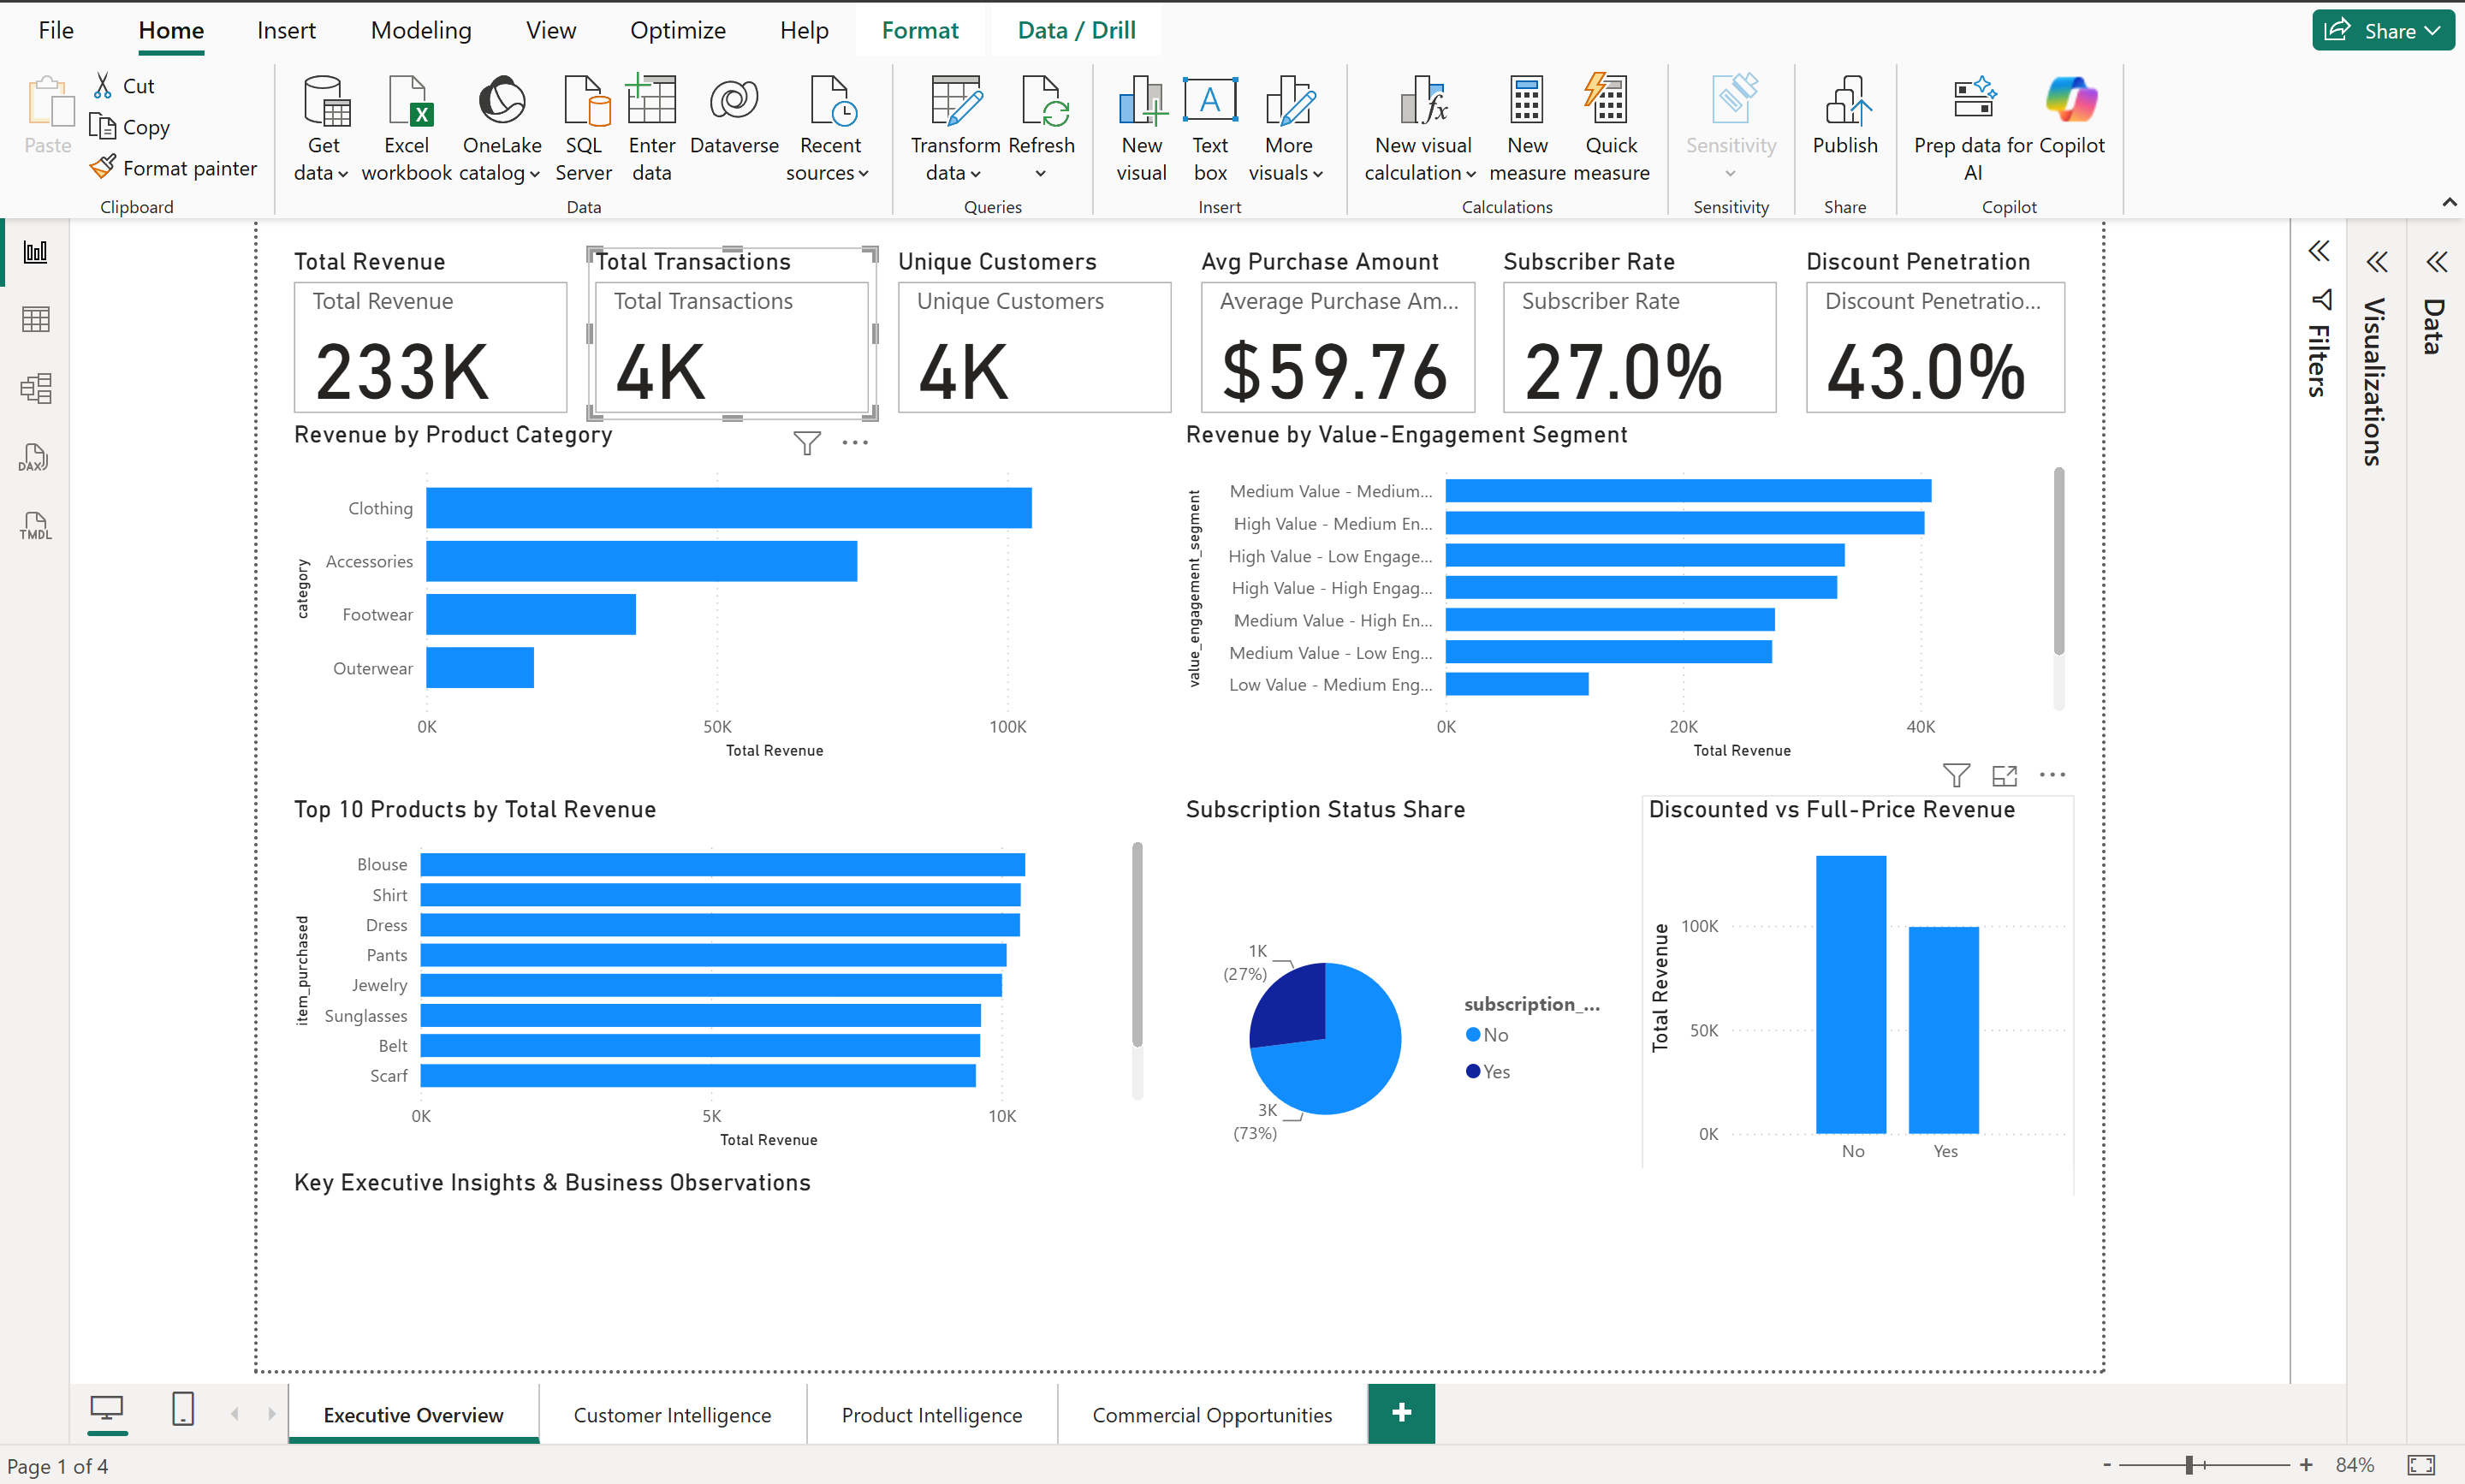

This screenshot's page, from the dashboard's own definition file:
{"tool":"powerbi","page":{"name":"Executive Overview","canvas":[1280,800],"ordinal":0},"visuals":[{"type":"cardVisual","title":"Total Revenue ($233,081)","box":[20,20,200,100],"z":1000},{"type":"cardVisual","title":"Total Transactions (3,900)","box":[230,20,200,100],"z":1000},{"type":"cardVisual","title":"Unique Customers (3,900)","box":[440,20,200,100],"z":1000},{"type":"cardVisual","title":"Avg Purchase Amount ($59.76)","box":[650,20,200,100],"z":1000},{"type":"cardVisual","title":"Subscriber Rate (27.0%)","box":[860,20,200,100],"z":1000},{"type":"cardVisual","title":"Discount Penetration (43.0%)","box":[1070,20,190,100],"z":1000},{"type":"barChart","title":"Revenue by Product Category","box":[20,140,600,240],"z":1000},{"type":"barChart","title":"Revenue by Value-Engagement Segment","box":[640,140,620,240],"z":1000},{"type":"barChart","title":"Top 10 Products by Total Revenue","box":[20,400,600,250],"z":1000},{"type":"pieChart","title":"Subscription Status Share","box":[640,400,300,250],"z":1000},{"type":"barChart","title":"Discounted vs Full-Price Revenue","box":[960,400,300,250],"z":1000},{"type":"textbox","title":"Key Executive Insights & Business Observations","box":[20,660,1240,120],"z":1000}]}

Visuals, with their boxes on the page's 1280x800 design canvas (x1, y1, x2, y2). These are canvas units, not pixel positions in the 2465x1484 screenshot, which may show the page scaled, cropped or inside an application window:
"Total Revenue ($233,081)" cardVisual: [left=20, top=20, right=220, bottom=120]
"Total Transactions (3,900)" cardVisual: [left=230, top=20, right=430, bottom=120]
"Unique Customers (3,900)" cardVisual: [left=440, top=20, right=640, bottom=120]
"Avg Purchase Amount ($59.76)" cardVisual: [left=650, top=20, right=850, bottom=120]
"Subscriber Rate (27.0%)" cardVisual: [left=860, top=20, right=1060, bottom=120]
"Discount Penetration (43.0%)" cardVisual: [left=1070, top=20, right=1260, bottom=120]
"Revenue by Product Category" barChart: [left=20, top=140, right=620, bottom=380]
"Revenue by Value-Engagement Segment" barChart: [left=640, top=140, right=1260, bottom=380]
"Top 10 Products by Total Revenue" barChart: [left=20, top=400, right=620, bottom=650]
"Subscription Status Share" pieChart: [left=640, top=400, right=940, bottom=650]
"Discounted vs Full-Price Revenue" barChart: [left=960, top=400, right=1260, bottom=650]
"Key Executive Insights & Business Observations" textbox: [left=20, top=660, right=1260, bottom=780]
